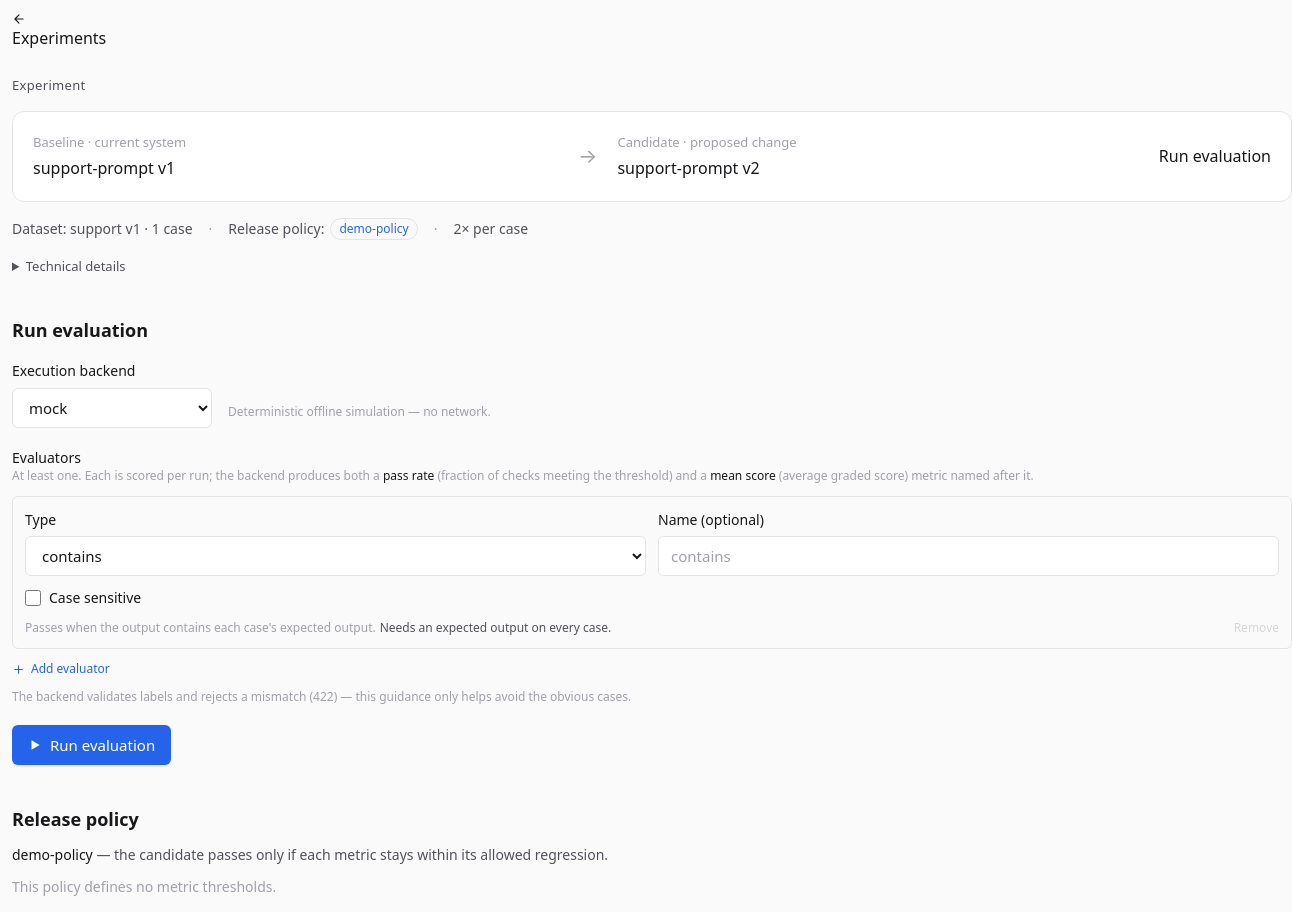
Test case: ExperimentDetailPage › surfaces a 422 configuration error from the async endpoint
Select "regex_match" in the dropdown labelled "Type" at (336, 556), box [25, 536, 646, 576]
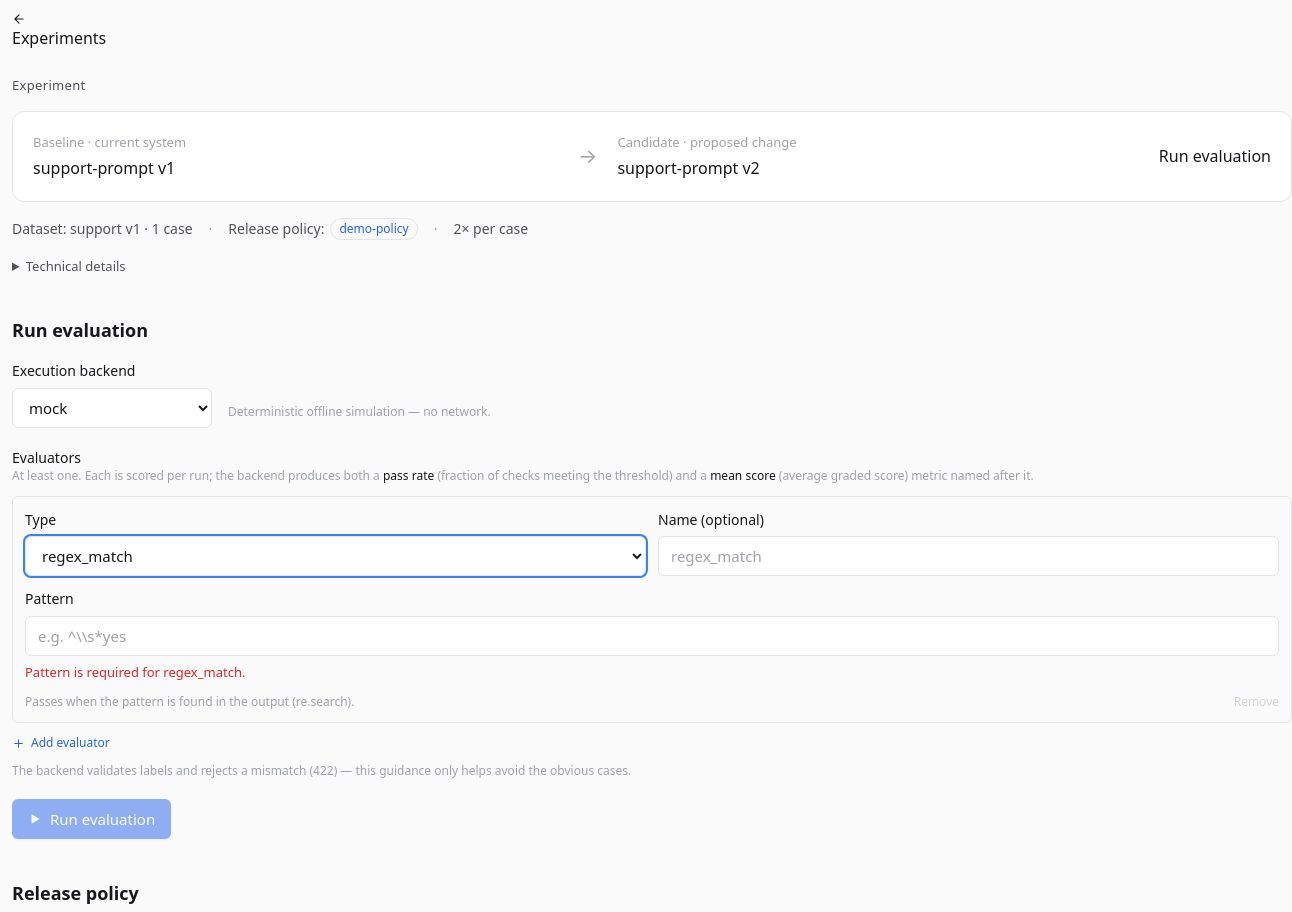
Type "(" into the field labelled "Pattern" at (652, 636), box [25, 616, 1279, 656]
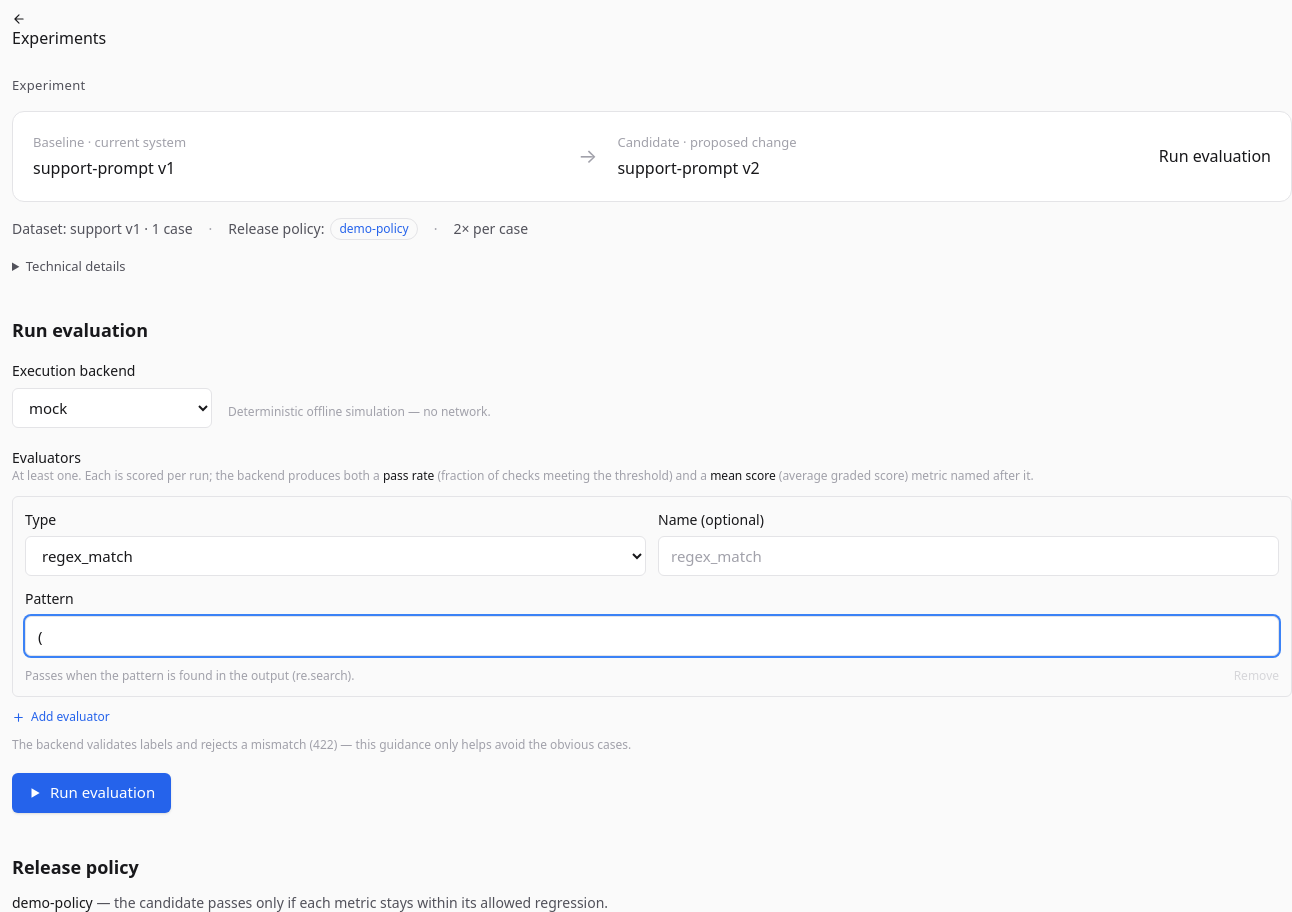
Click the button "Run evaluation" at (92, 793), box [12, 773, 171, 813]
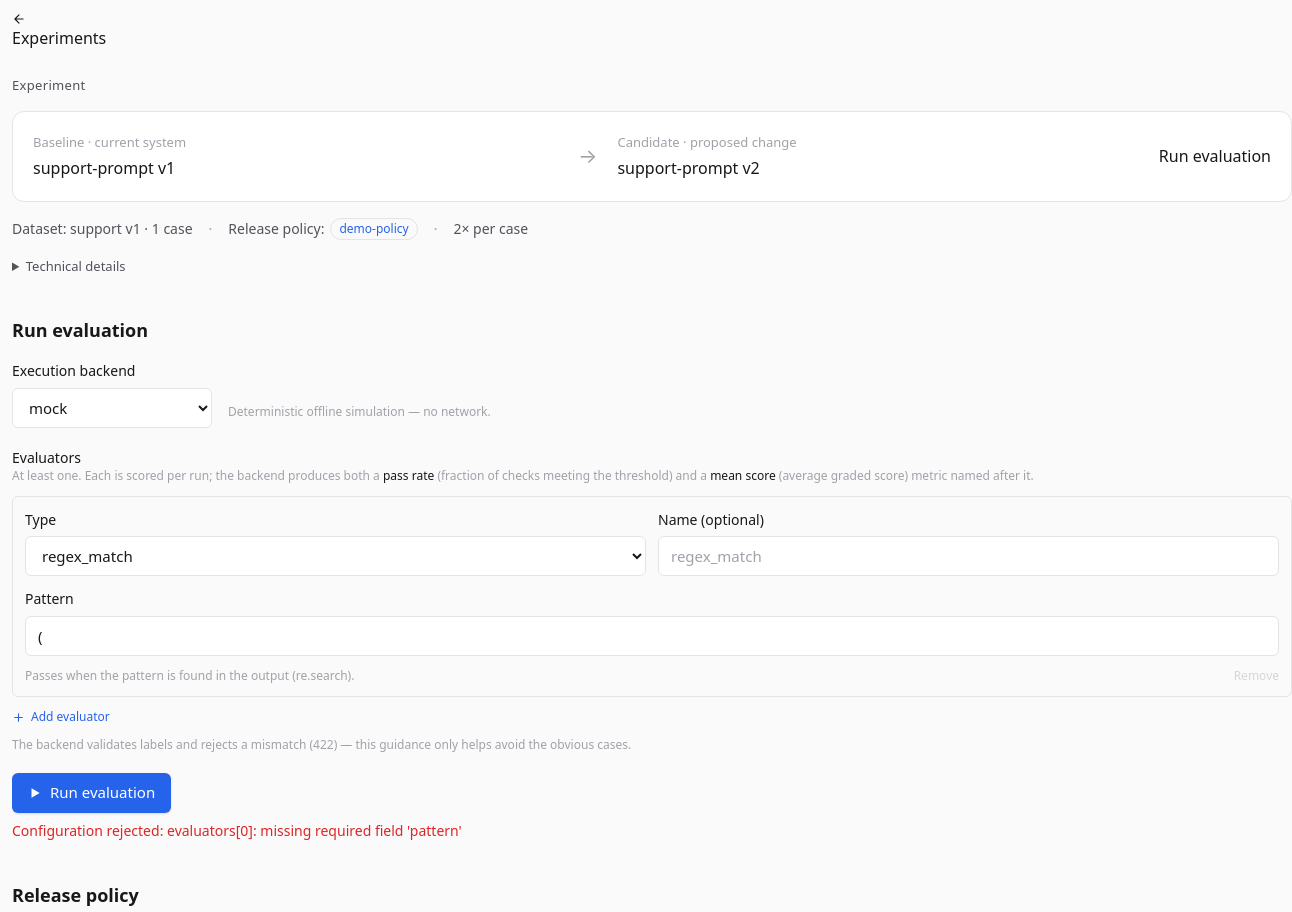
Expected: the text "Configuration rejected:" is shown, [12, 821, 462, 840]
